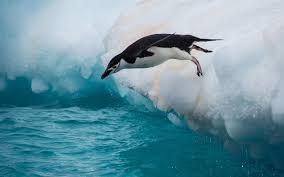chinstrap: (89, 25, 230, 87)
